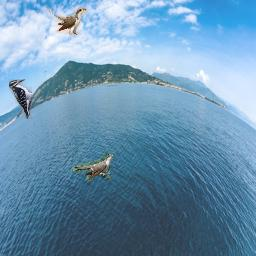Cuckoo: (47, 6, 87, 35), (73, 154, 113, 181)
Woodpecker: (9, 79, 32, 119)
